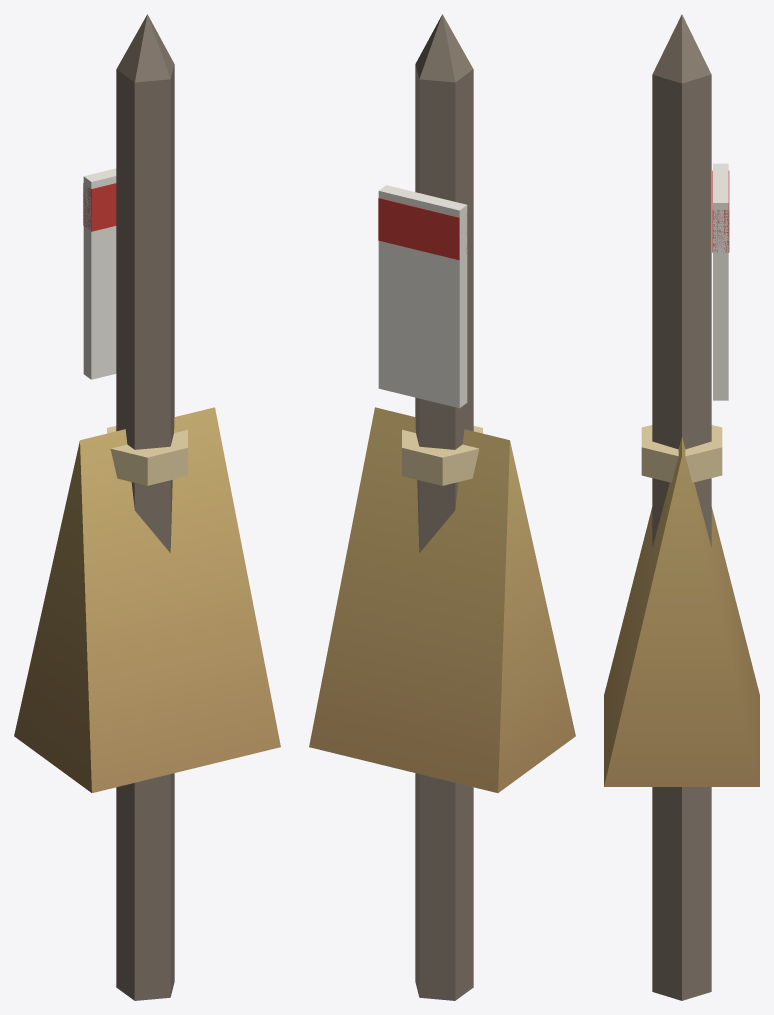
Rendered from rice_paddy_marker.glb.
3 renders of one model, left to right at view 1: azimuth 30°, elevation 25°; view 2: azimuth 150°, elevation 25°; view 3: azimuth 270°, elevation 25°, orthographic.
Parts seen in each view (by area): view 1: rice_paddy_marker; view 2: rice_paddy_marker; view 3: rice_paddy_marker.
Boxes of the visible parts, bbox=[...] form: rice_paddy_marker: bbox=[14, 14, 280, 1000]; rice_paddy_marker: bbox=[309, 14, 575, 1000]; rice_paddy_marker: bbox=[604, 14, 759, 1000].
Bounding box in the file's own units: 0.28 × 1.38 × 0.2.
